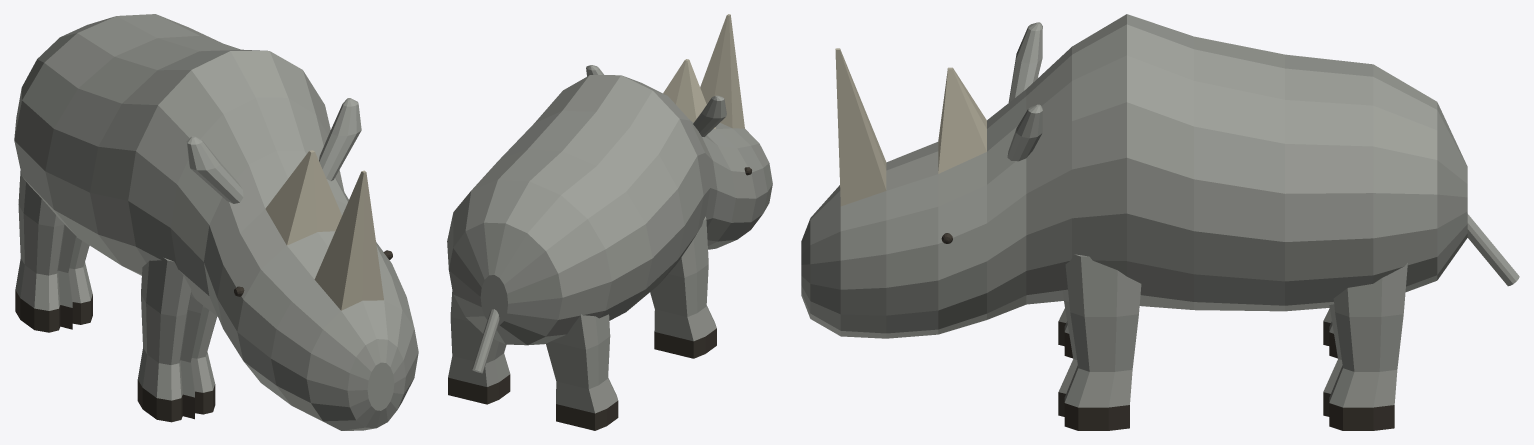
3 renders of one model, left to right at view 1: azimuth 30°, elevation 25°; view 2: azimuth 150°, elevation 25°; view 3: azimuth 270°, elevation 25°, orthographic. The views are drawn at different scales.
Parts seen in each view (by area): view 1: WholeMassiveShouldersLowHeadAndIntegralHorns, WholeColumnarForeLegAndLobedFoot0, WholeColumnarHindLegAndLobedFoot0, WholeSmallThickSideEar1, WholeSmallThickSideEar0; view 2: WholeMassiveShouldersLowHeadAndIntegralHorns, WholeColumnarHindLegAndLobedFoot0, WholeColumnarForeLegAndLobedFoot0, WholeColumnarHindLegAndLobedFoot1, WholeSmallThickSideEar0, WholeThinRearTail; view 3: WholeMassiveShouldersLowHeadAndIntegralHorns, WholeColumnarForeLegAndLobedFoot1, WholeColumnarHindLegAndLobedFoot1, WholeSmallThickSideEar0, WholeSmallThickSideEar1, WholeThinRearTail.
Part boxes in pixels (box(x1,y1,x2,y2)): WholeMassiveShouldersLowHeadAndIntegralHorns: box(14, 14, 418, 430); WholeColumnarForeLegAndLobedFoot0: box(137, 257, 216, 422); WholeColumnarHindLegAndLobedFoot0: box(15, 171, 92, 332); WholeSmallThickSideEar1: box(319, 98, 361, 181); WholeSmallThickSideEar0: box(186, 136, 243, 203); WholeMassiveShouldersLowHeadAndIntegralHorns: box(447, 14, 772, 345); WholeColumnarHindLegAndLobedFoot0: box(546, 313, 618, 430); WholeColumnarForeLegAndLobedFoot0: box(650, 216, 716, 358); WholeColumnarHindLegAndLobedFoot1: box(448, 291, 510, 404); WholeSmallThickSideEar0: box(693, 95, 726, 136); WholeThinRearTail: box(472, 309, 499, 373); WholeMassiveShouldersLowHeadAndIntegralHorns: box(801, 14, 1467, 338); WholeColumnarForeLegAndLobedFoot1: box(1058, 254, 1141, 430); WholeColumnarHindLegAndLobedFoot1: box(1323, 263, 1407, 430); WholeSmallThickSideEar0: box(1008, 22, 1042, 102); WholeSmallThickSideEar1: box(1007, 104, 1042, 161); WholeThinRearTail: box(1467, 214, 1519, 286).
Size of the model in its own units: 0.92 by 1.29 by 2.36.
